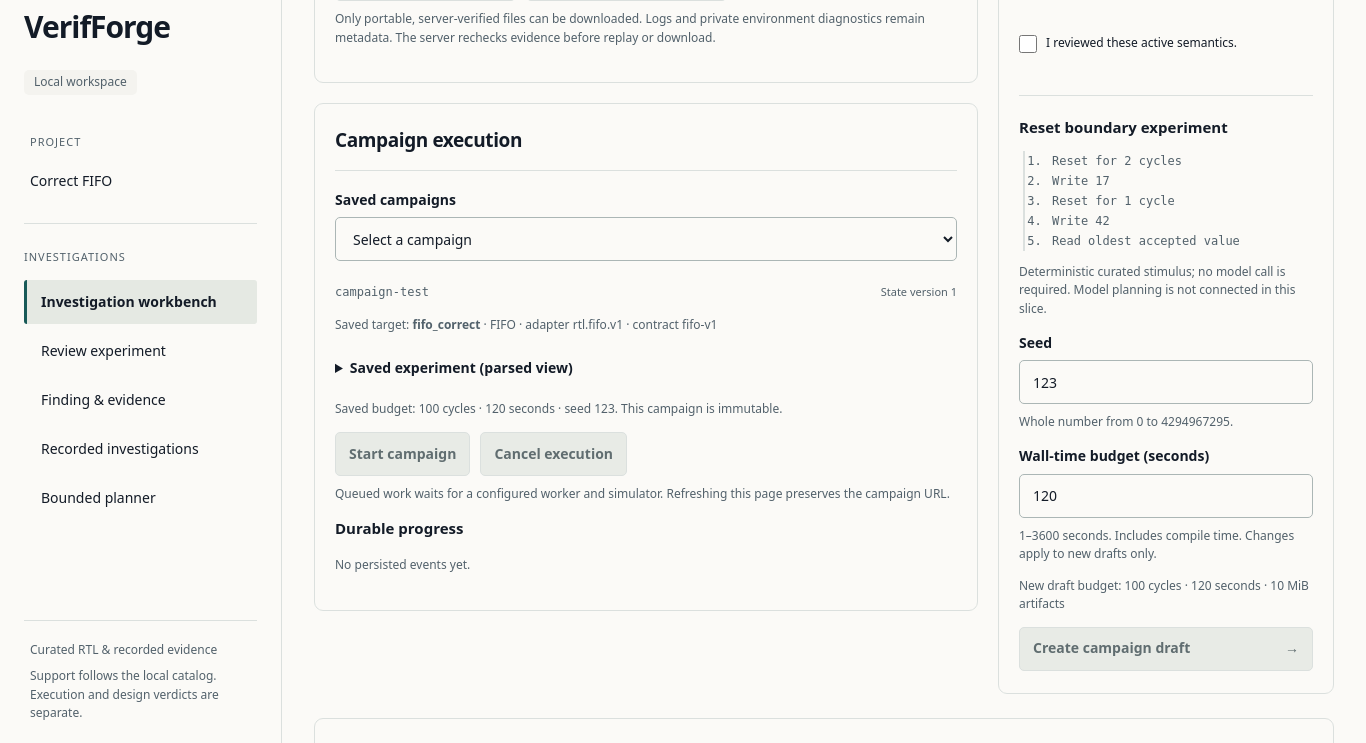
Test case: investigation workflow › renders wide saved stimulus and distinct trace integers without rounded digits or raw-JSON claims
(page scrolled)
Click the heading "Saved experiment (parsed view)". click: coordinates (461, 368)
box: [350, 358, 573, 378]
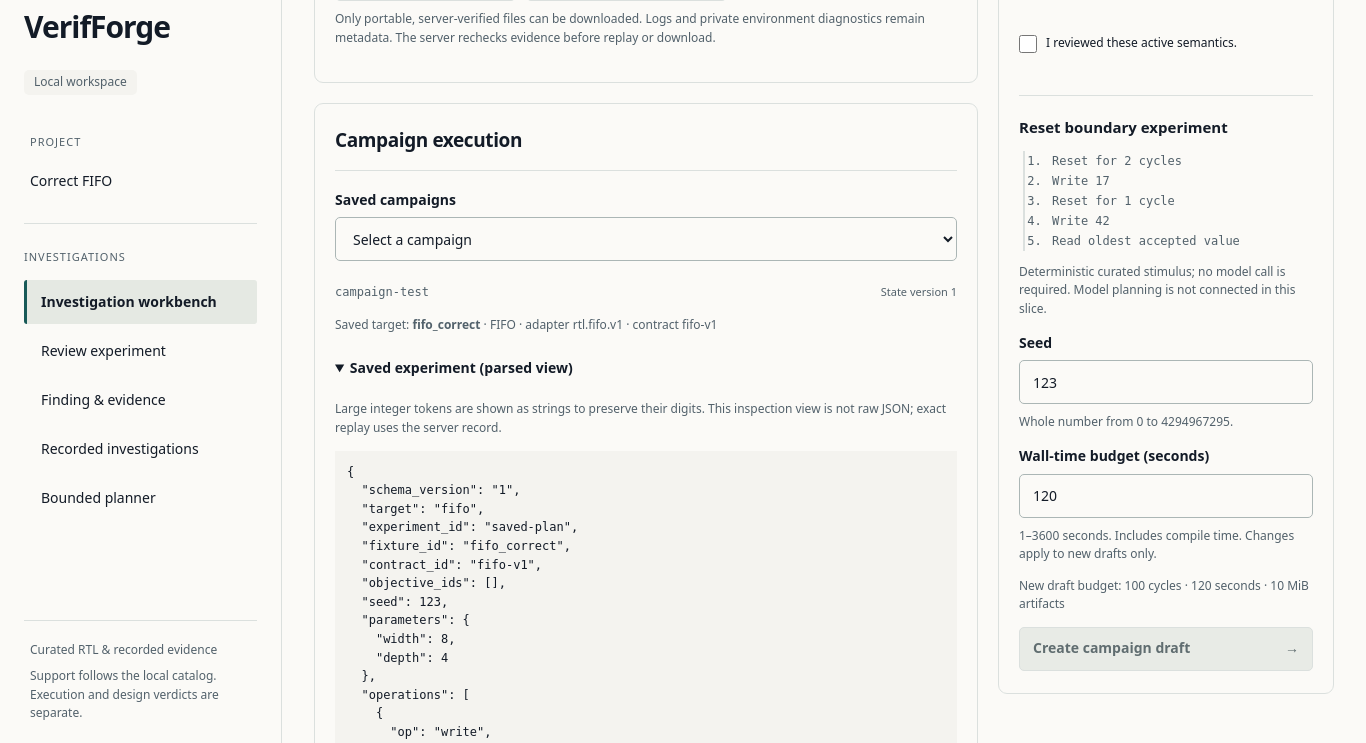
expect the text "This inspection view is not raw JSON" is shown: met, box [335, 400, 946, 436]
